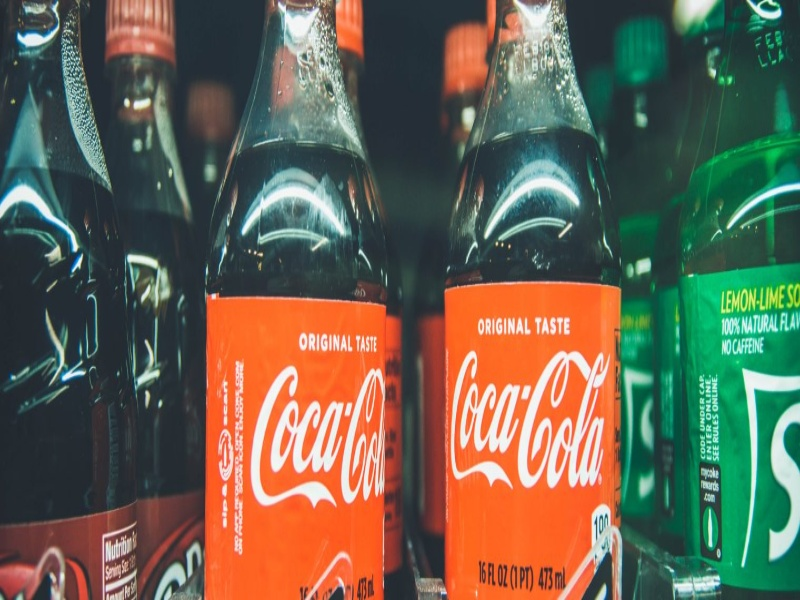Glass bottle: (199, 5, 404, 589), (445, 1, 630, 600), (74, 7, 236, 599), (652, 3, 800, 599), (1, 4, 136, 600)
